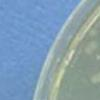white: (88, 41, 98, 51), (84, 46, 93, 55), (90, 75, 97, 84), (95, 71, 100, 82), (89, 31, 96, 38), (96, 54, 100, 60)
